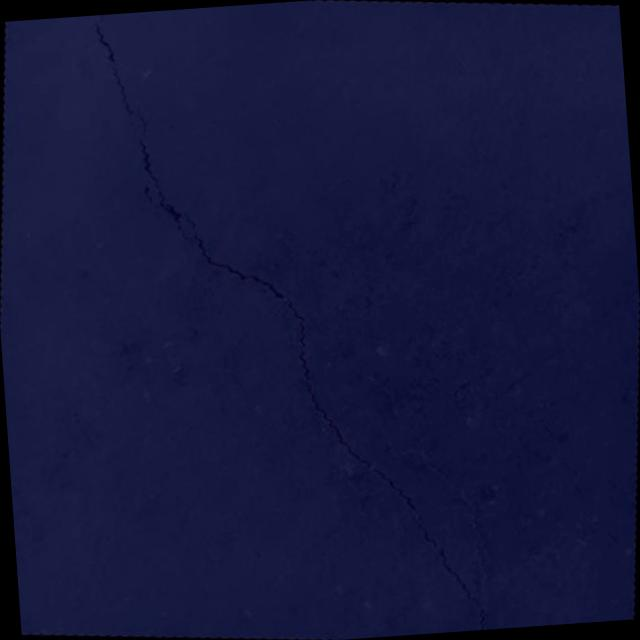crack: (147, 191, 522, 640), (76, 8, 214, 255)
